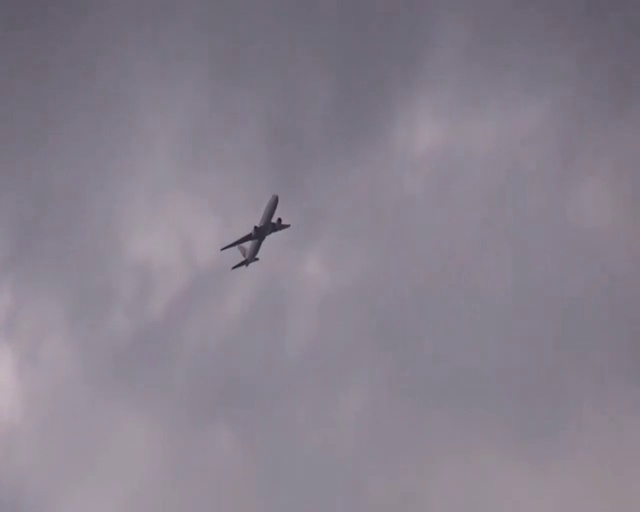AIRPLANE: (220, 193, 290, 271)
